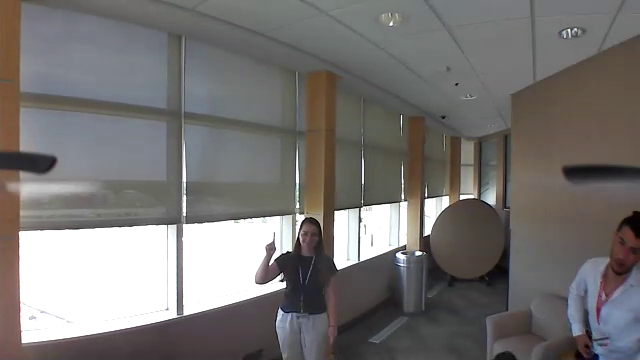up: (264, 230, 278, 256)
